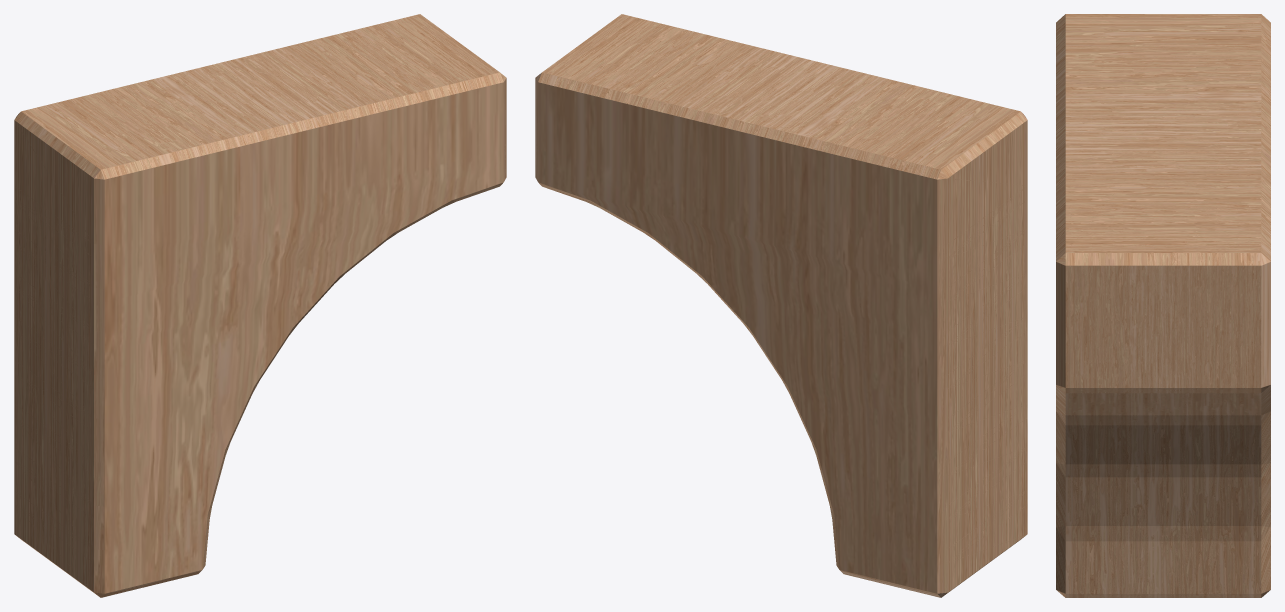
Rendered from PuenteMadera.fbx.
3 renders of one model, left to right at view 1: azimuth 30°, elevation 25°; view 2: azimuth 150°, elevation 25°; view 3: azimuth 270°, elevation 25°, orthographic. The views are drawn at different scales.
Visible parts, largest first — view 1: Puente madera; view 2: Puente madera; view 3: Puente madera.
Boxes of the visible parts, x1=… form: Puente madera: x1=14, y1=14, x2=506, y2=597; Puente madera: x1=535, y1=14, x2=1027, y2=597; Puente madera: x1=1056, y1=14, x2=1270, y2=597.
Size of the model in its own units: 706 by 700 by 259.
Materials: 1 (1 with a texture image).
